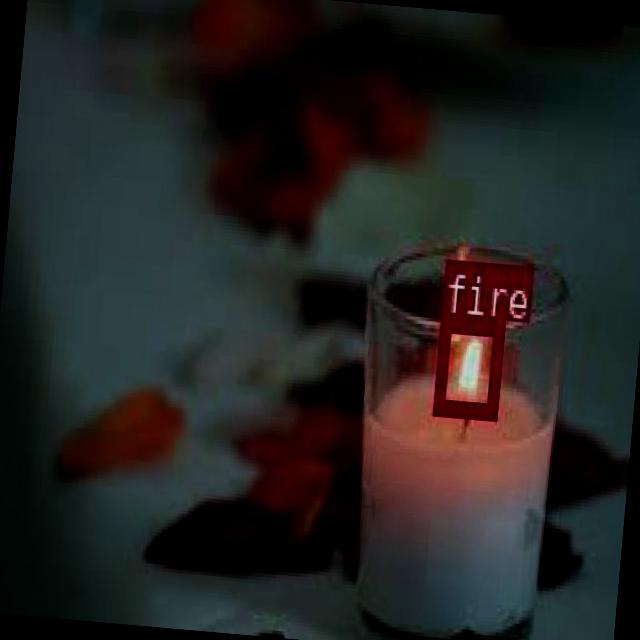fire: (429, 312, 502, 418)
